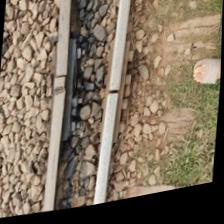person: (42, 59, 80, 101), (99, 81, 128, 113)
